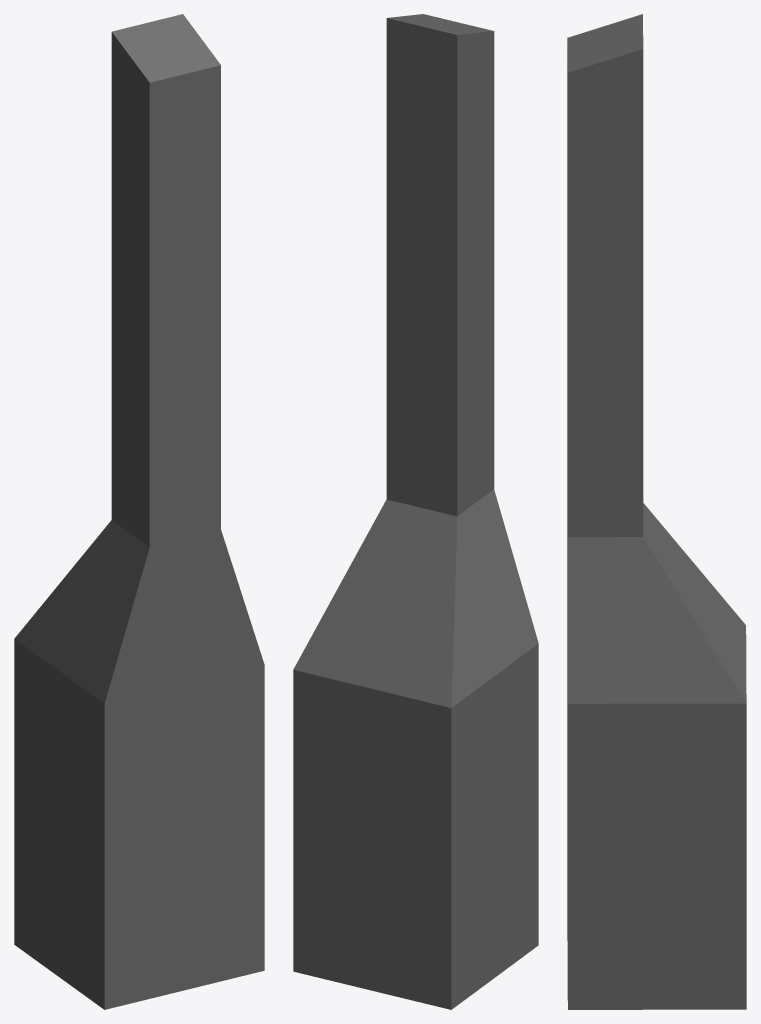
File: pillar_6.fbx
3 renders of one model, left to right at view 1: azimuth 30°, elevation 25°; view 2: azimuth 150°, elevation 25°; view 3: azimuth 270°, elevation 25°, orthographic.
Visible parts, largest first — view 1: Object.031; view 2: Object.031; view 3: Object.031.
Boxes of the visible parts, x1,y1,x2,y2 form: Object.031: [14, 14, 264, 1009]; Object.031: [293, 14, 538, 1009]; Object.031: [567, 14, 746, 1009].
Bounding box in the file's own units: 211 × 1176 × 203.
